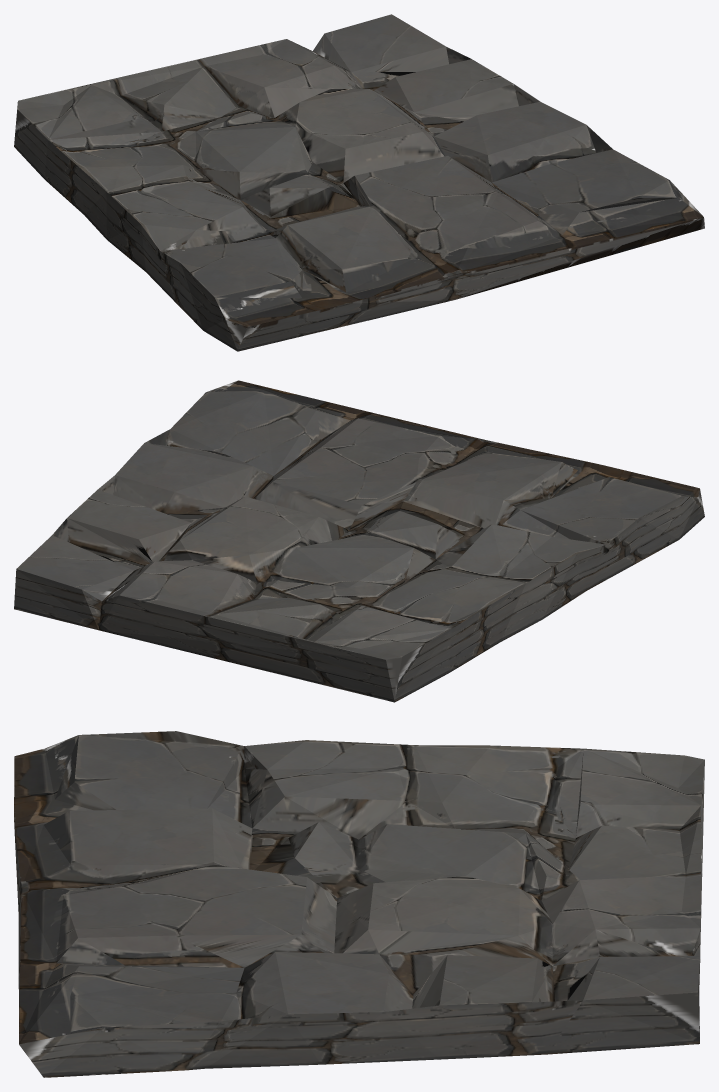
The model's file is SM_Dungeon_Floor_A_LOD2.fbx.
3 views of the same model, one above another, from view 1: azimuth 30°, elevation 25°; view 2: azimuth 150°, elevation 25°; view 3: azimuth 270°, elevation 25° (orthographic). The views are drawn at different scales.
Visible parts, largest first — view 1: SM_Dungeon_Floor_A_LOD2; view 2: SM_Dungeon_Floor_A_LOD2; view 3: SM_Dungeon_Floor_A_LOD2.
Boxes of the visible parts, x1,y1,x2,y2 form: SM_Dungeon_Floor_A_LOD2: (14,14,704,351); SM_Dungeon_Floor_A_LOD2: (14,380,704,702); SM_Dungeon_Floor_A_LOD2: (14,731,704,1077).
Size of the model in its own units: 4.04 by 0.3544 by 3.95.
